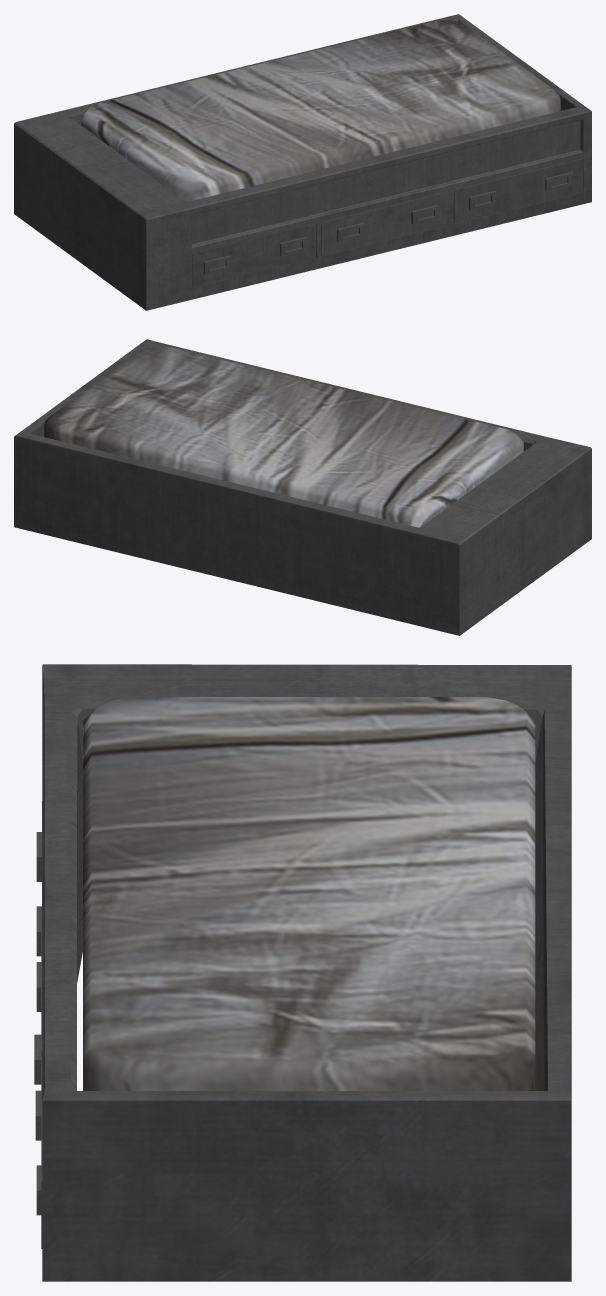
Rendered from stateroom_bed.fbx.
The picture shows the model from 3 angles, top to bottom: view 1: azimuth 30°, elevation 25°; view 2: azimuth 150°, elevation 25°; view 3: azimuth 270°, elevation 25°; orthographic projection. The views are drawn at different scales.
Visible parts, largest first — view 1: polySurface2, polySurface1, polySurface4, polySurface7, polySurface5, polySurface6, polySurface8; view 2: polySurface2, polySurface1; view 3: polySurface1, polySurface2.
Boxes of the visible parts, x1,y1,x2,y2 form: polySurface2: [14, 14, 591, 310]; polySurface1: [81, 20, 560, 201]; polySurface4: [411, 205, 439, 224]; polySurface7: [469, 191, 496, 210]; polySurface5: [203, 255, 230, 274]; polySurface6: [280, 237, 307, 256]; polySurface8: [545, 172, 572, 191]; polySurface2: [14, 339, 591, 635]; polySurface1: [44, 346, 523, 527]; polySurface1: [83, 697, 535, 1090]; polySurface2: [41, 664, 571, 1281].
Size of the model in its own units: 1825 by 396 by 953.
